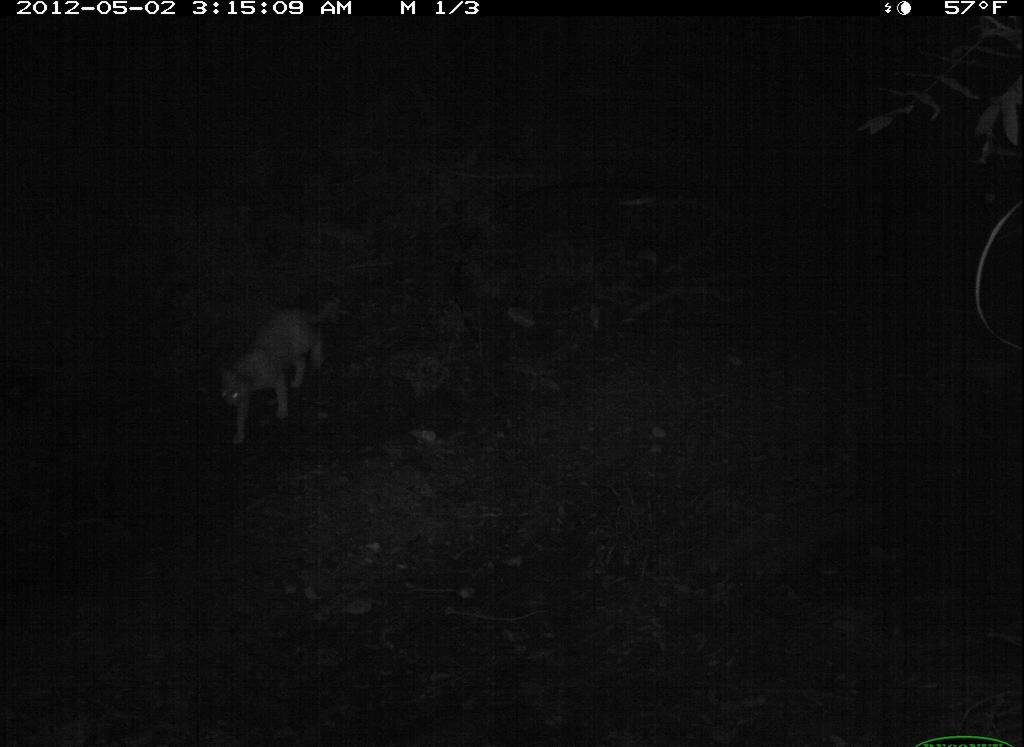cat: (213, 285, 350, 455)
